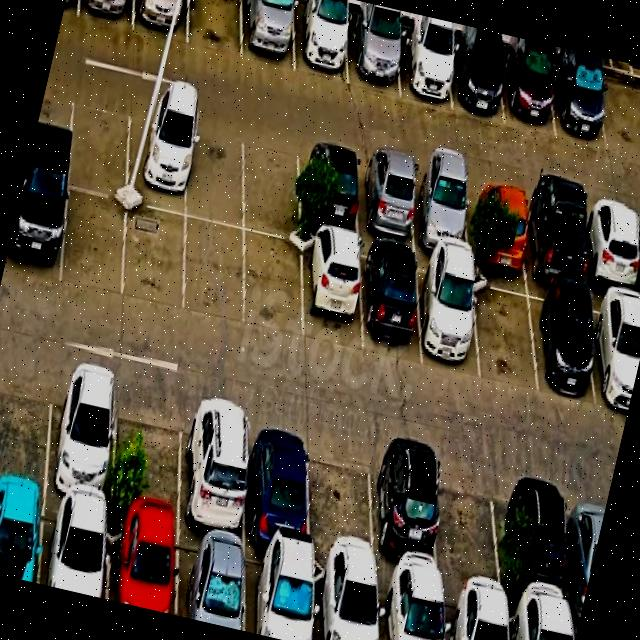empty: (101, 410, 191, 534), (292, 456, 384, 575), (462, 283, 548, 390), (180, 116, 256, 228), (113, 199, 193, 305), (53, 194, 134, 296), (0, 371, 61, 506), (239, 128, 315, 235), (56, 99, 136, 198), (232, 229, 308, 330), (176, 216, 250, 312), (591, 58, 640, 153), (179, 0, 252, 58)
occupied: (159, 426, 256, 555), (32, 398, 126, 522), (355, 460, 447, 586), (232, 445, 317, 574), (492, 480, 576, 607), (422, 473, 508, 595), (410, 262, 492, 377), (526, 288, 606, 404), (117, 98, 201, 207), (460, 168, 538, 283), (518, 188, 596, 303), (355, 244, 432, 360), (290, 236, 370, 342), (286, 137, 368, 240), (572, 203, 640, 314), (101, 528, 186, 614), (402, 164, 474, 264), (174, 546, 258, 630), (3, 180, 72, 280), (442, 24, 514, 119), (352, 153, 421, 248), (585, 300, 640, 419), (244, 559, 324, 640), (496, 36, 564, 130), (36, 518, 115, 598), (394, 13, 461, 107), (548, 49, 614, 142), (342, 1, 410, 91), (552, 502, 606, 614), (288, 0, 356, 78), (232, 0, 304, 73), (311, 579, 395, 640), (0, 500, 49, 582), (379, 591, 459, 640), (447, 604, 523, 640), (128, 0, 194, 35), (507, 618, 576, 640), (75, 0, 138, 24), (626, 211, 640, 316)
